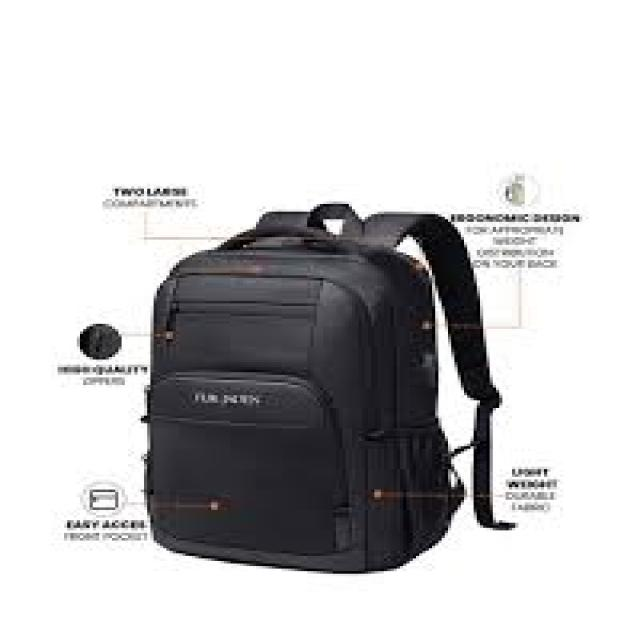backpack: (142, 202, 513, 575)
